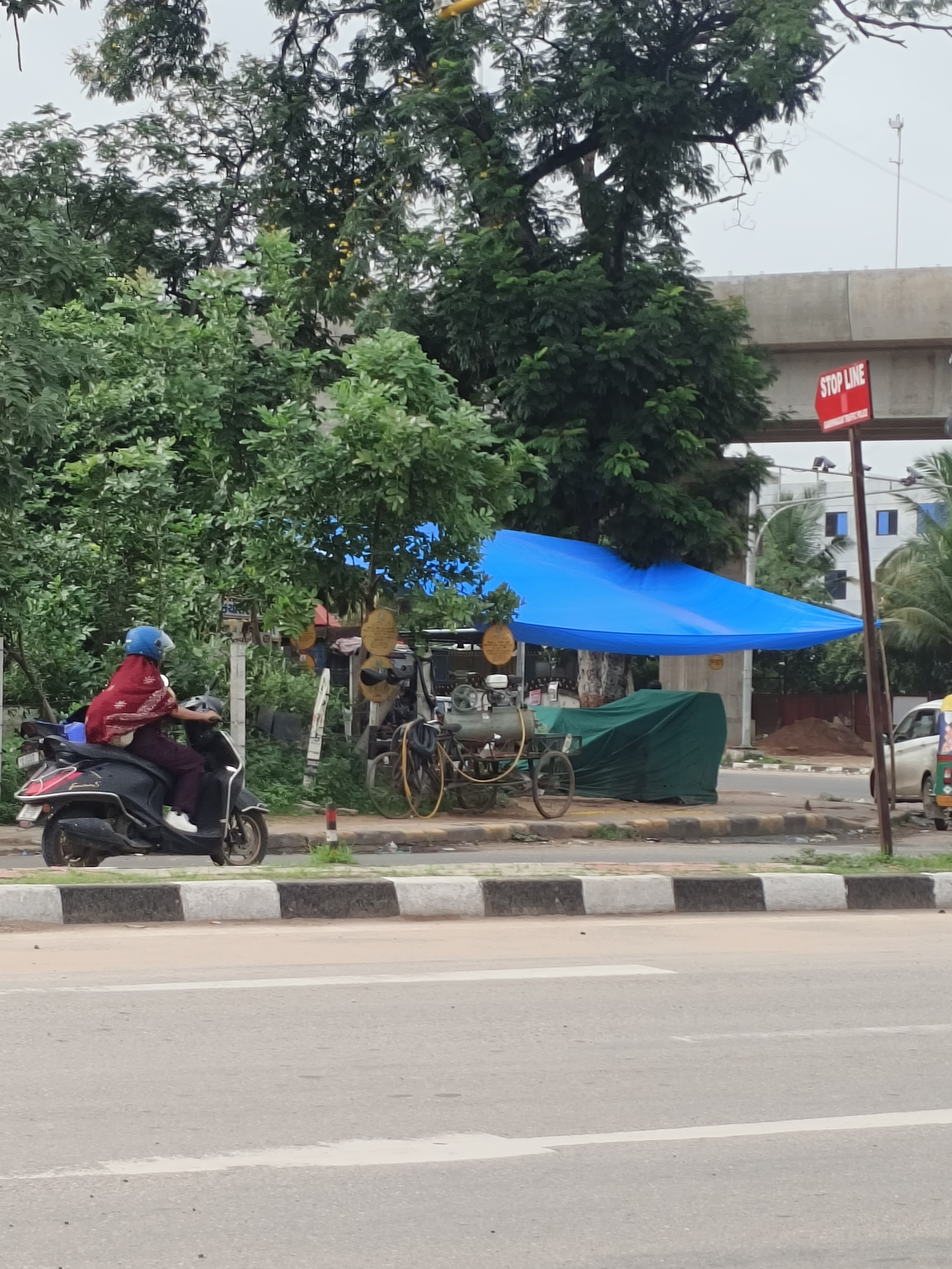BikeWithRider: (7, 617, 278, 880)
Helmet: (115, 619, 180, 668)
